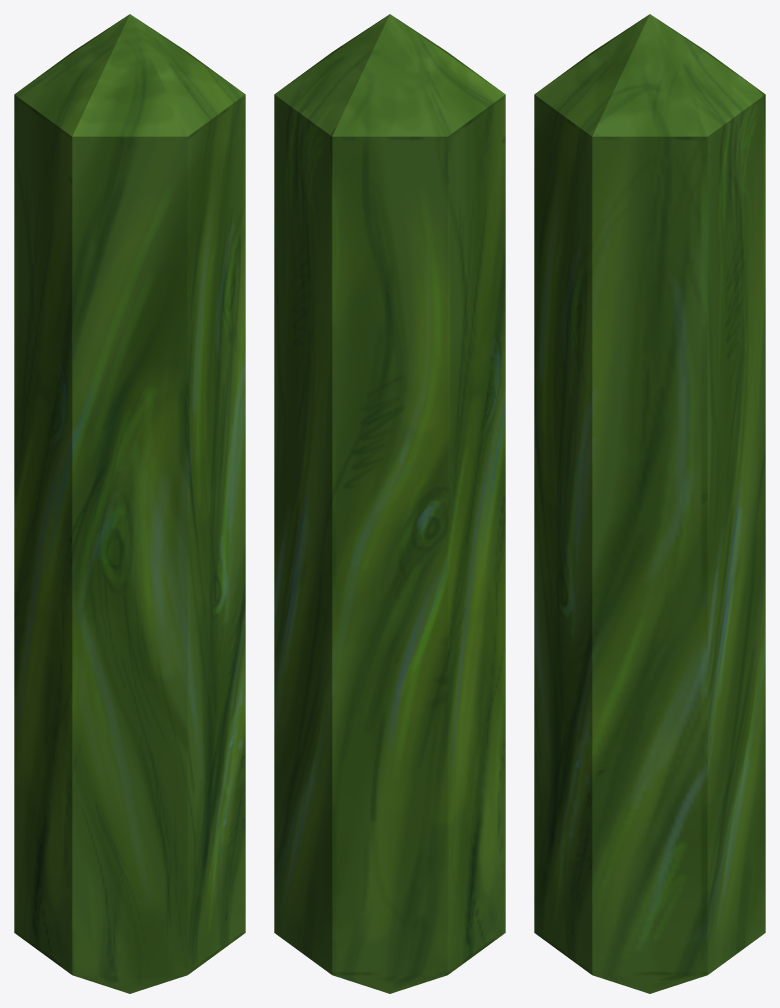
File: BeanstalkTrunk.fbx
3 views of the same model, side by side, from view 1: azimuth 30°, elevation 25°; view 2: azimuth 150°, elevation 25°; view 3: azimuth 270°, elevation 25° (orthographic).
Visible parts, largest first — view 1: Cylinder; view 2: Cylinder; view 3: Cylinder.
Part boxes in pixels (x1,y1,x2,y2): Cylinder: [14, 14, 245, 993]; Cylinder: [274, 14, 505, 993]; Cylinder: [534, 14, 765, 993].
Bounding box in the file's own units: 1.73 × 9.35 × 2.
